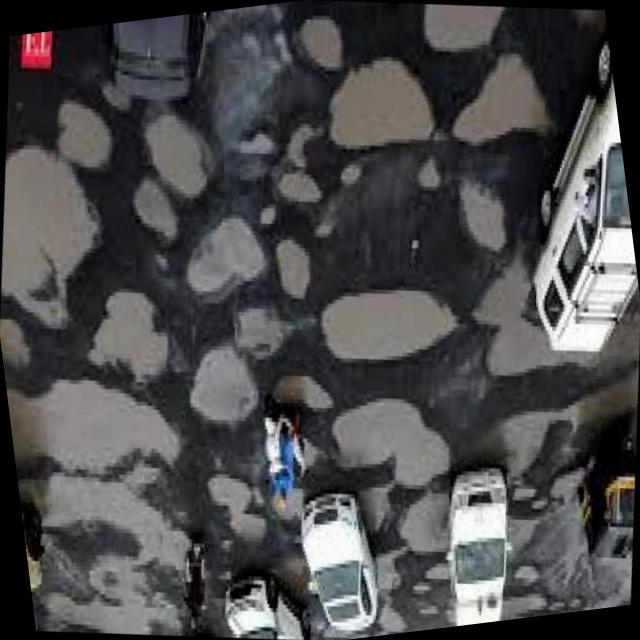Pathole: (6, 376, 187, 635), (1, 141, 96, 321), (321, 287, 468, 363), (332, 398, 451, 485), (330, 56, 433, 145), (454, 53, 549, 141), (184, 214, 265, 299), (151, 114, 205, 193)
